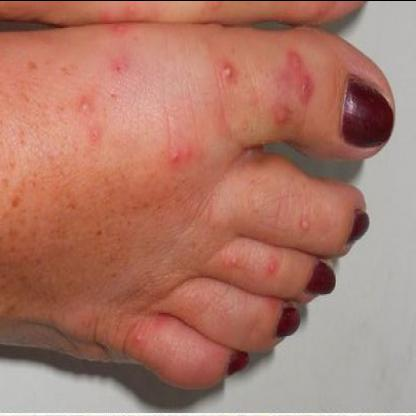Fire ant: (274, 46, 318, 131), (73, 96, 104, 148), (109, 2, 141, 40), (168, 144, 196, 170), (266, 247, 284, 285), (218, 56, 240, 86), (224, 246, 244, 278), (109, 54, 131, 82), (298, 212, 316, 235), (204, 2, 230, 16), (132, 328, 148, 347), (314, 4, 334, 19)
